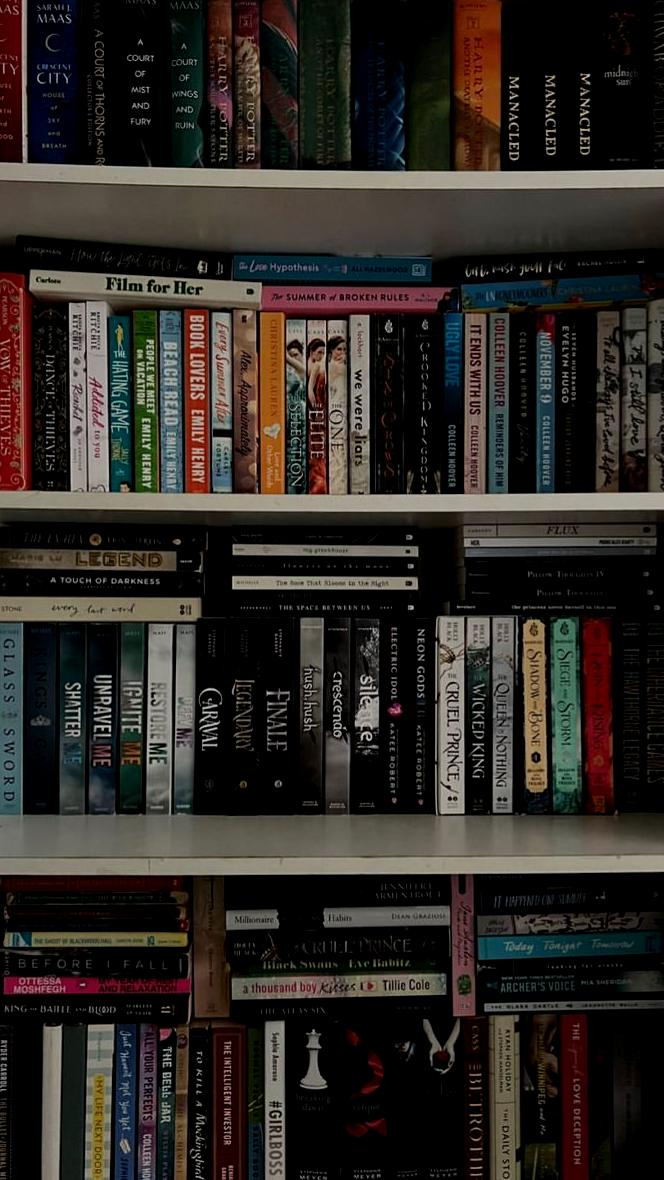book: (25, 267, 252, 309), (26, 0, 82, 161), (520, 8, 576, 169), (451, 271, 664, 313), (18, 234, 231, 276), (351, 0, 404, 166), (297, 0, 347, 167), (404, 0, 453, 170), (447, 246, 663, 284), (452, 0, 500, 167), (116, 0, 163, 164), (234, 971, 452, 1005), (288, 1020, 334, 1180), (30, 304, 69, 492), (223, 879, 452, 911), (230, 931, 444, 965), (473, 880, 664, 917), (259, 0, 300, 166), (581, 618, 615, 815), (0, 271, 30, 491), (167, 0, 206, 165), (228, 619, 261, 813), (421, 1025, 462, 1180), (23, 624, 56, 815), (550, 618, 582, 814), (1, 524, 210, 554), (474, 968, 664, 1001), (195, 620, 227, 815), (262, 618, 294, 812), (231, 254, 436, 284), (476, 930, 664, 962), (230, 905, 451, 932), (352, 620, 383, 812), (209, 1026, 247, 1180), (404, 315, 436, 496), (435, 616, 464, 814), (57, 624, 87, 814), (520, 618, 549, 814), (372, 314, 403, 496), (566, 7, 601, 167), (80, 0, 114, 163), (88, 625, 117, 815), (616, 621, 645, 810), (0, 595, 202, 622), (0, 569, 200, 596), (619, 308, 648, 494), (558, 1012, 590, 1180), (323, 619, 351, 810), (145, 624, 173, 814), (464, 616, 491, 813), (0, 949, 189, 977), (259, 286, 454, 313), (298, 618, 325, 811), (487, 1013, 518, 1180), (119, 624, 146, 814), (491, 617, 517, 814), (233, 0, 264, 165), (0, 548, 208, 572), (206, 0, 236, 166), (593, 311, 620, 491), (132, 312, 159, 492), (408, 621, 433, 814), (232, 310, 258, 495), (184, 307, 210, 492), (585, 1020, 615, 1180), (0, 624, 25, 816), (173, 623, 198, 814), (259, 310, 285, 492), (85, 302, 110, 490), (508, 313, 534, 492), (58, 1025, 88, 1180), (460, 1017, 488, 1180), (208, 312, 233, 494), (557, 313, 582, 490), (0, 974, 192, 997), (159, 307, 183, 490), (230, 524, 420, 547), (66, 303, 89, 492), (440, 313, 464, 493), (325, 320, 349, 497), (534, 310, 557, 492), (457, 564, 656, 585), (642, 620, 664, 808), (348, 315, 371, 494), (443, 598, 658, 617), (463, 313, 486, 490), (284, 318, 307, 493), (0, 0, 25, 161), (487, 311, 509, 492), (306, 316, 328, 494), (0, 874, 191, 894), (3, 930, 193, 950), (645, 299, 664, 495), (135, 1025, 159, 1180), (579, 315, 599, 493), (2, 889, 194, 907), (3, 904, 193, 922), (457, 535, 658, 552), (233, 575, 422, 593), (230, 559, 418, 577), (458, 555, 657, 572), (155, 1028, 177, 1180), (188, 1029, 210, 1180), (231, 599, 421, 616), (458, 545, 658, 561), (245, 1027, 265, 1180), (171, 1027, 191, 1180), (234, 542, 424, 558), (647, 0, 664, 171), (465, 525, 656, 535)
